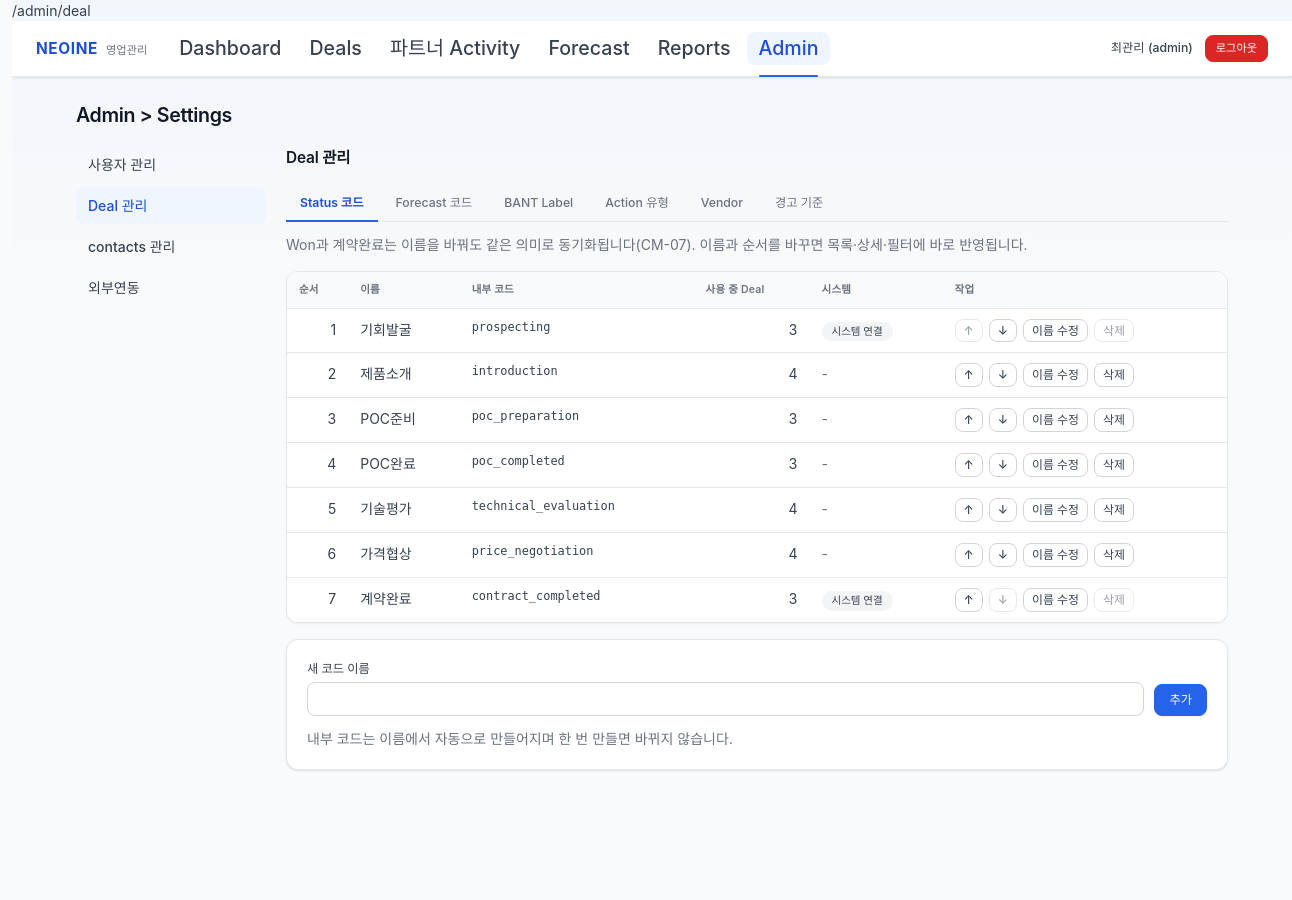
Test: BANT Label 관리 목록 (T-LABEL-01, T-ADMIN-06) › shows one section per BANT category with its default labels
This screenshot has width=1292, height=900.
What coordinates should you click on to do the following:
click the tab "BANT Label"
I would click on:
 (539, 204)
Its box is [490,186,587,222].
(page scrolled)
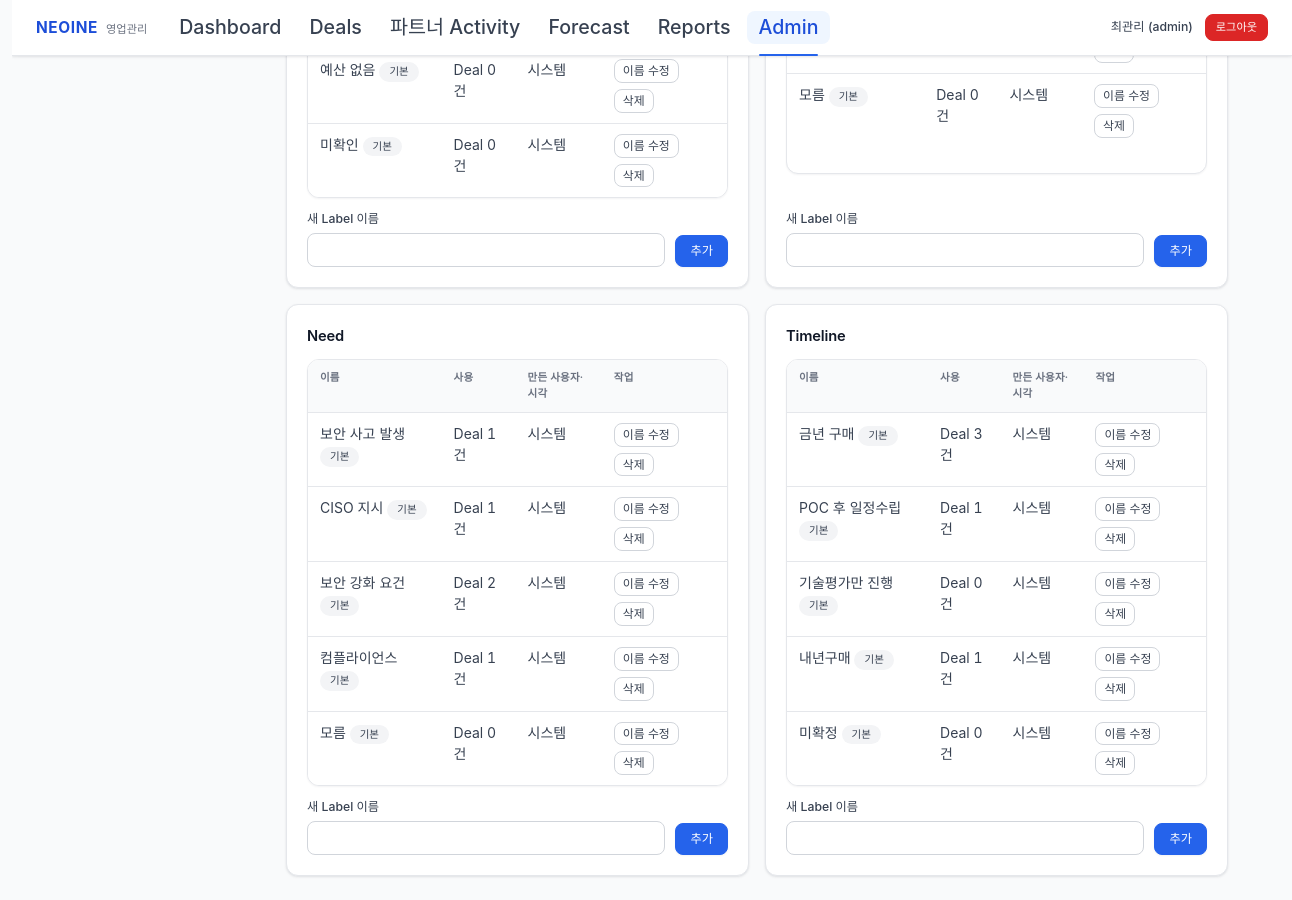
Check: the element "Need" is shown, box [286,304,749,876]
Check: the element "Timeline" is shown, box [765,304,1228,876]
Check: the text "컴플라이언스" is shown, box [320,649,397,666]
